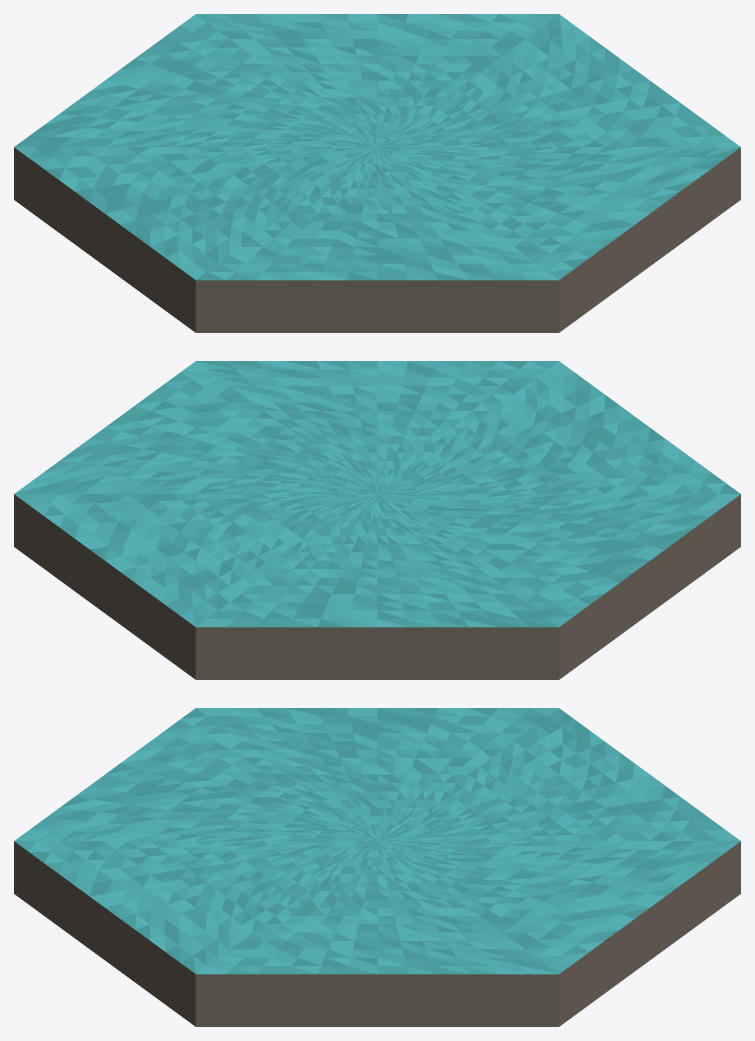
File: TERRAIN_COAST_v02.fbx
The picture shows the model from 3 angles, top to bottom: view 1: azimuth 30°, elevation 25°; view 2: azimuth 150°, elevation 25°; view 3: azimuth 270°, elevation 25°; orthographic projection.
Visible parts, largest first — view 1: TERRAIN_COAST_v02; view 2: TERRAIN_COAST_v02; view 3: TERRAIN_COAST_v02.
Part boxes in pixels (x1,y1,x2,y2): TERRAIN_COAST_v02: (14, 14, 740, 332); TERRAIN_COAST_v02: (14, 361, 740, 679); TERRAIN_COAST_v02: (14, 708, 740, 1026).
Size of the model in its own units: 173 by 16 by 200.
